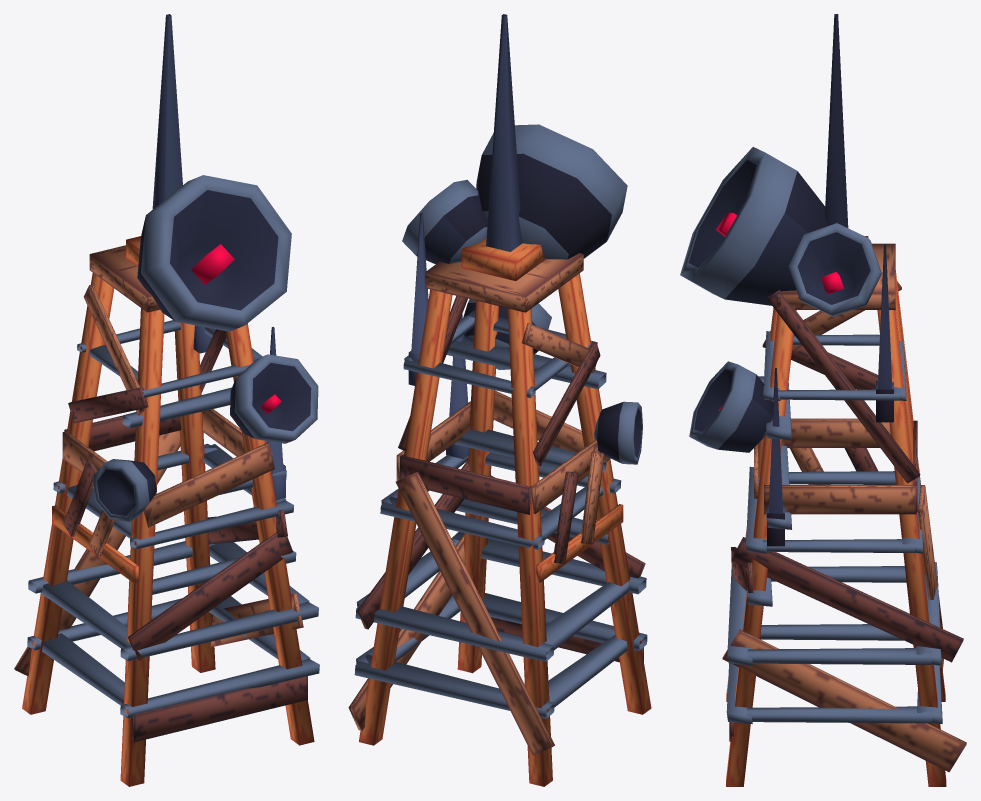
File: Antena.fbx
3 views of the same model, side by side, from view 1: azimuth 30°, elevation 25°; view 2: azimuth 150°, elevation 25°; view 3: azimuth 270°, elevation 25° (orthographic). The views are drawn at different scales.
Parts seen in each view (by area): view 1: Moinho_Pequeno.001; view 2: Moinho_Pequeno.001; view 3: Moinho_Pequeno.001.
Boxes of the visible parts, x1=… form: Moinho_Pequeno.001: x1=14, y1=14, x2=319, y2=786; Moinho_Pequeno.001: x1=348, y1=14, x2=651, y2=786; Moinho_Pequeno.001: x1=680, y1=14, x2=966, y2=786.
Size of the model in its own units: 436 by 519 by 1450.
